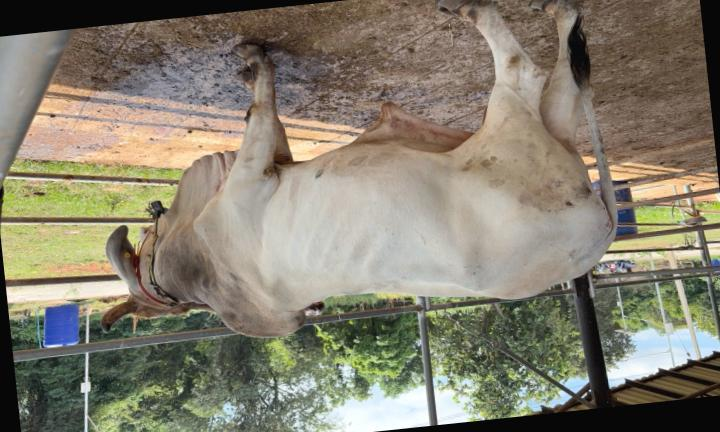Brahman: (101, 0, 617, 337)
